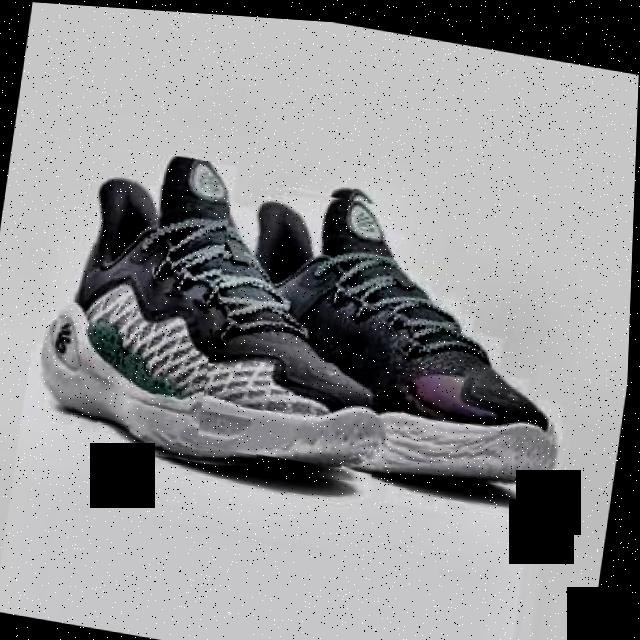shoe: (32, 135, 418, 494), (198, 175, 589, 499)
